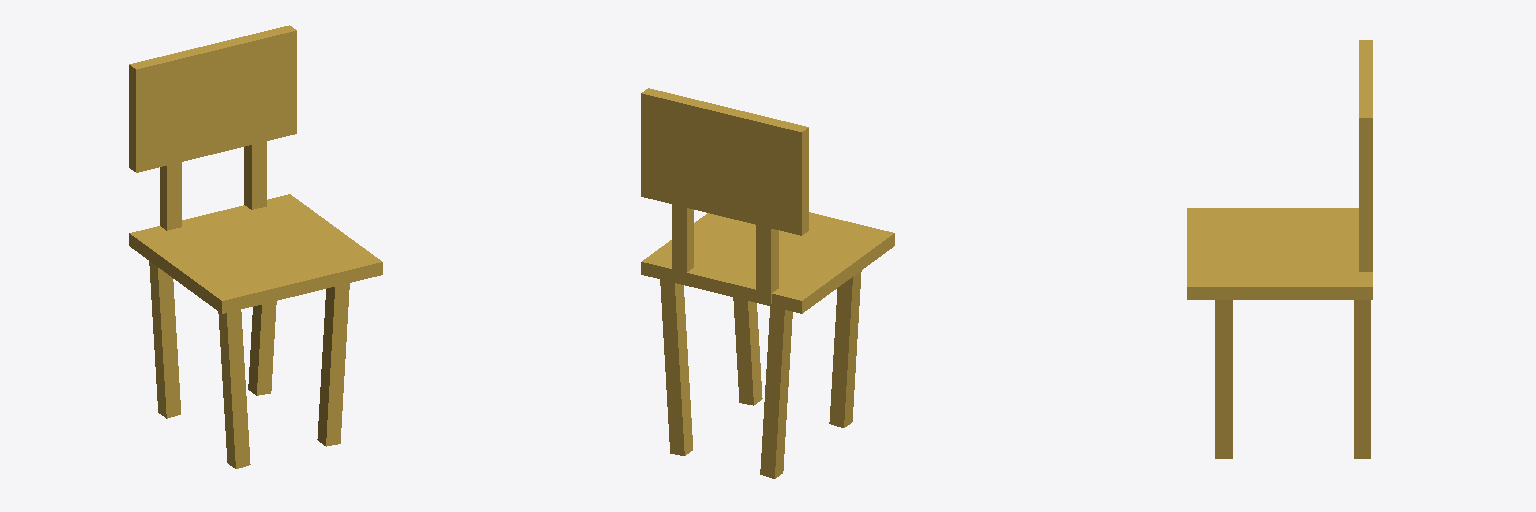
The model's file is newscene.obj.
3 views of the same model, side by side, from view 1: azimuth 30°, elevation 25°; view 2: azimuth 150°, elevation 25°; view 3: azimuth 270°, elevation 25° (orthographic).
Parts seen in each view (by area): view 1: cube156; view 2: cube156; view 3: cube156.
Part boxes in pixels (x1,y1,x2,y2): cube156: (129,25,382,468); cube156: (641,88,894,478); cube156: (1187,40,1372,458).
Bounding box in the file's own units: 256 × 539 × 257.